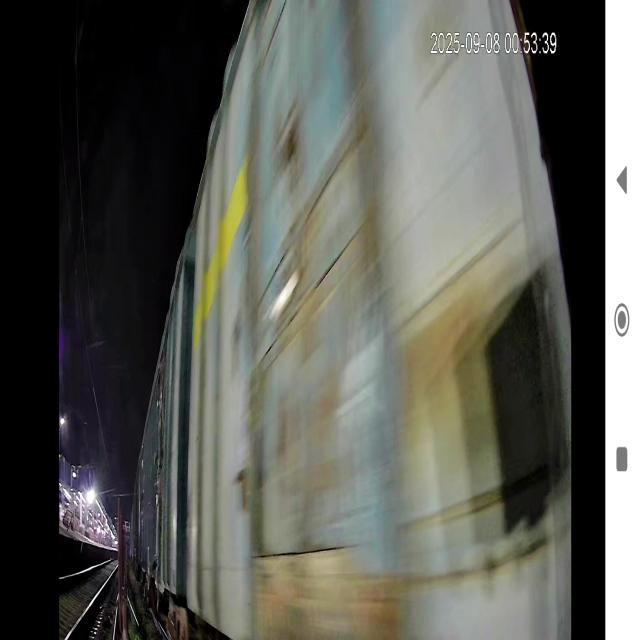coach: (198, 0, 562, 640)
